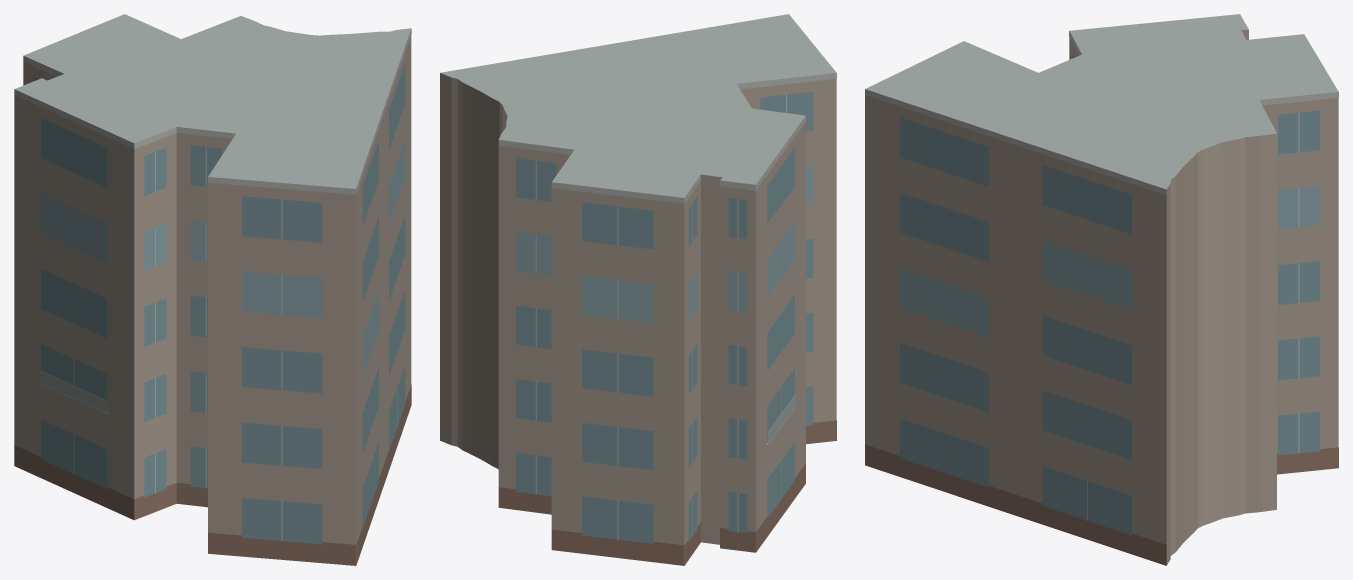
File: survey-upis-32847245.glb
3 renders of one model, left to right at view 1: azimuth 30°, elevation 25°; view 2: azimuth 150°, elevation 25°; view 3: azimuth 270°, elevation 25°, orthographic. The views are drawn at different scales.
Visible parts, largest first — view 1: survey-upis-32847245.tmp; view 2: survey-upis-32847245.tmp; view 3: survey-upis-32847245.tmp.
Part boxes in pixels (left/top/right/bottom): survey-upis-32847245.tmp: left=14, top=14, right=411, bottom=565; survey-upis-32847245.tmp: left=440, top=14, right=836, bottom=565; survey-upis-32847245.tmp: left=865, top=14, right=1338, bottom=565.
Size of the model in its own units: 15.47 by 15.45 by 17.64.
